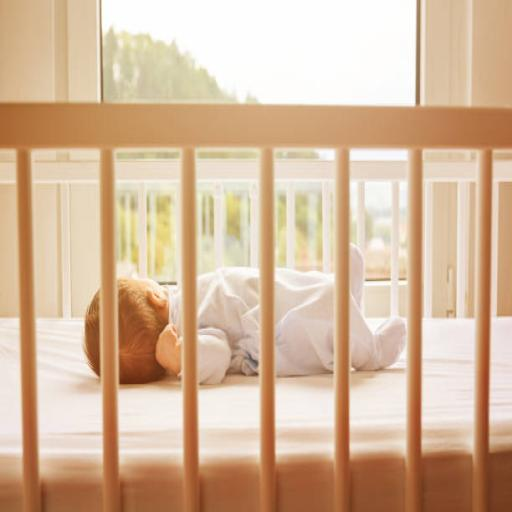baby: (197, 268, 259, 383)
crib: (0, 105, 511, 510)
